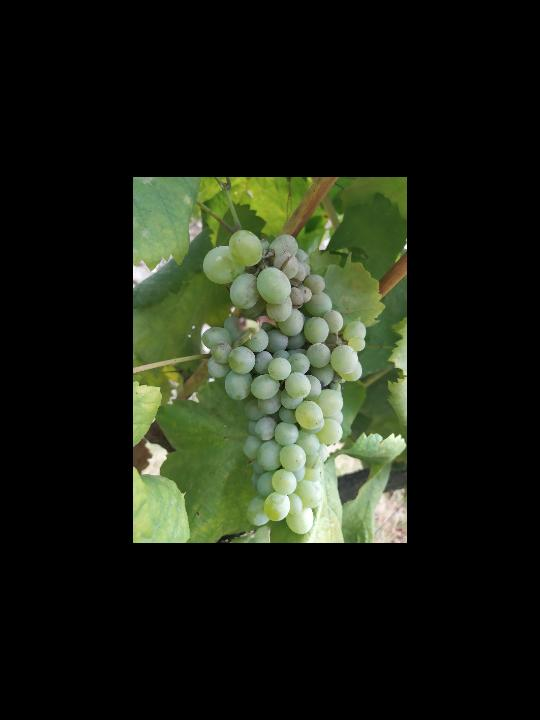grape: (200, 227, 369, 536)
